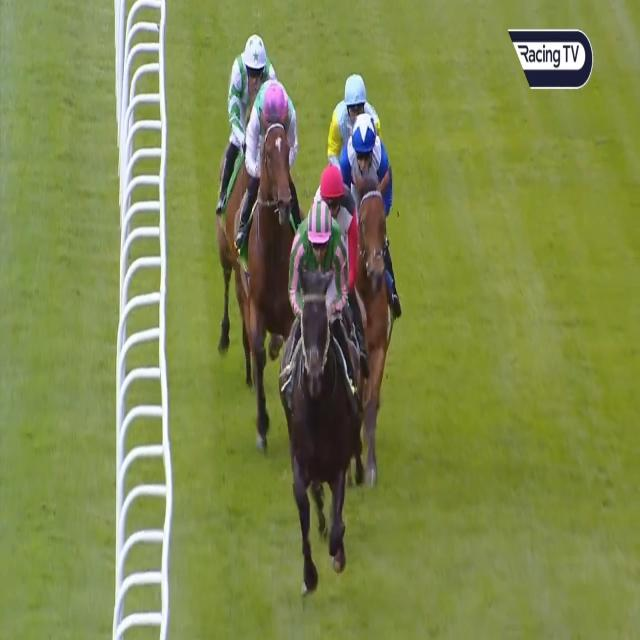horses-racing: (293, 198, 352, 570), (235, 65, 301, 382), (352, 105, 394, 470), (224, 32, 268, 205), (316, 163, 359, 284), (324, 66, 367, 146)
